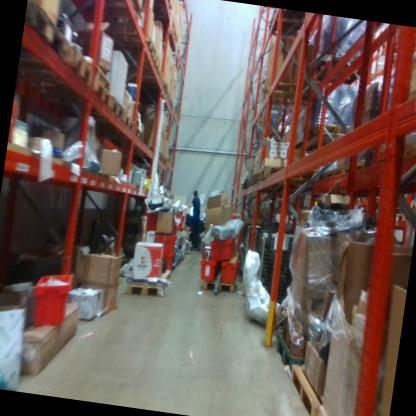pallet: (256, 45, 364, 113), (16, 32, 97, 93), (292, 111, 363, 166), (20, 0, 71, 63), (265, 329, 322, 382), (276, 355, 325, 416), (53, 0, 145, 27), (370, 130, 416, 181), (85, 26, 157, 57), (123, 262, 175, 299), (82, 76, 120, 117), (112, 44, 162, 74), (400, 27, 416, 117), (196, 267, 238, 300), (254, 164, 307, 190), (267, 9, 311, 39), (256, 149, 308, 172), (117, 64, 164, 87), (87, 57, 117, 90), (315, 160, 351, 187), (108, 86, 127, 123), (390, 209, 416, 231), (119, 107, 136, 135), (314, 401, 345, 416), (127, 110, 148, 132), (130, 123, 148, 145), (354, 189, 371, 205)
small_load_carrier: (145, 228, 243, 287), (24, 265, 73, 335), (201, 231, 239, 264), (137, 208, 166, 242), (197, 251, 219, 285), (151, 248, 179, 274), (174, 210, 187, 231)
stillage: (262, 229, 314, 323), (229, 215, 270, 282), (252, 228, 286, 291)
